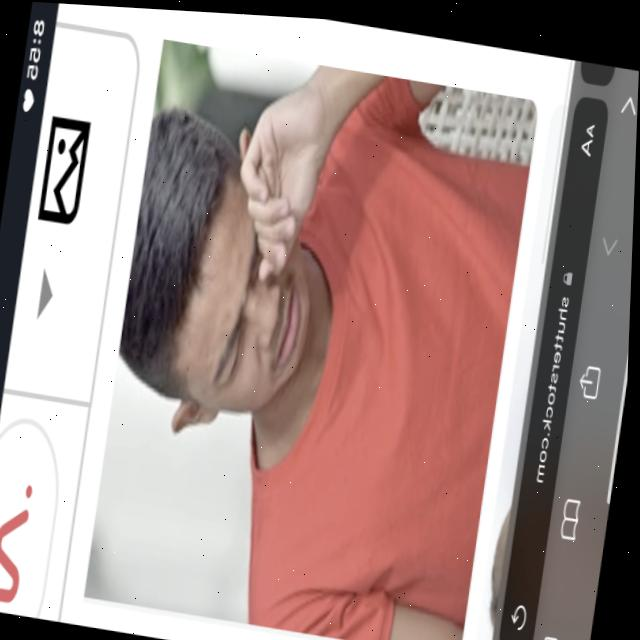sad: (127, 95, 343, 459)
